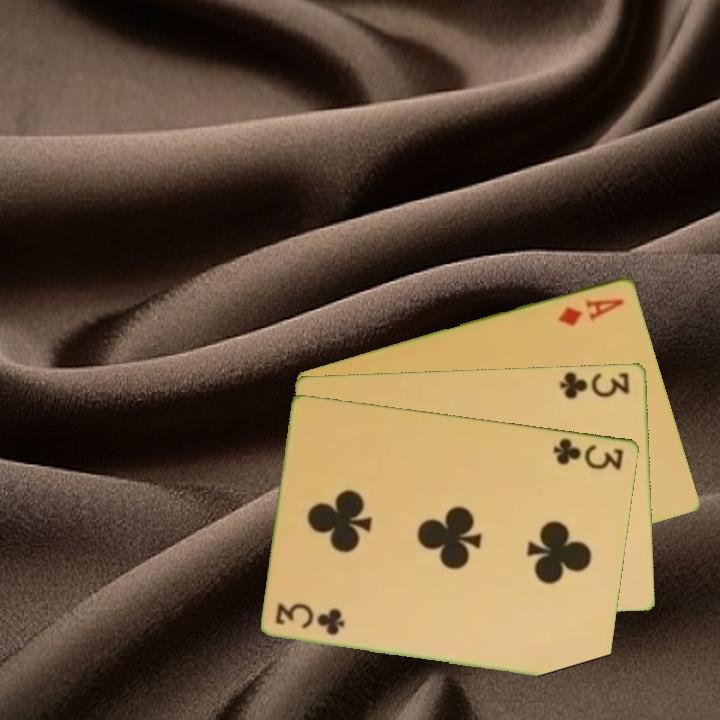3c: (550, 434, 627, 473), (272, 602, 348, 638), (556, 368, 633, 401)
Ad: (555, 294, 627, 329)
